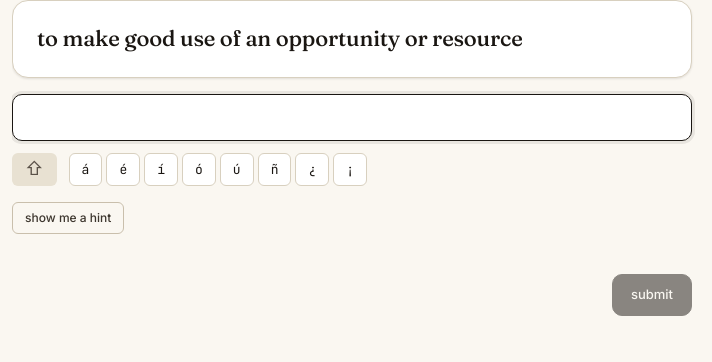
VocabExercise › hint progression (Req 5.2) › reveals the first letter and advances hintLevel after clicking the hint chip
The image size is (712, 362).
Expected: the text "first letter:" is not shown
# Click — parent advances hintLevel from 0 to 1.
Click the button "show me a hint" at (68, 218), box [12, 202, 124, 234]
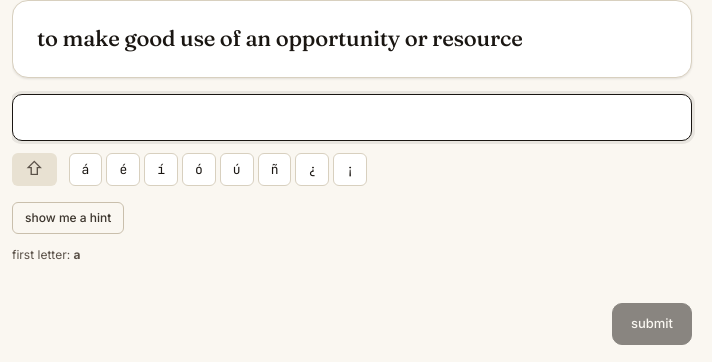
Expected: the text "a" is shown, [74, 247, 80, 262]
